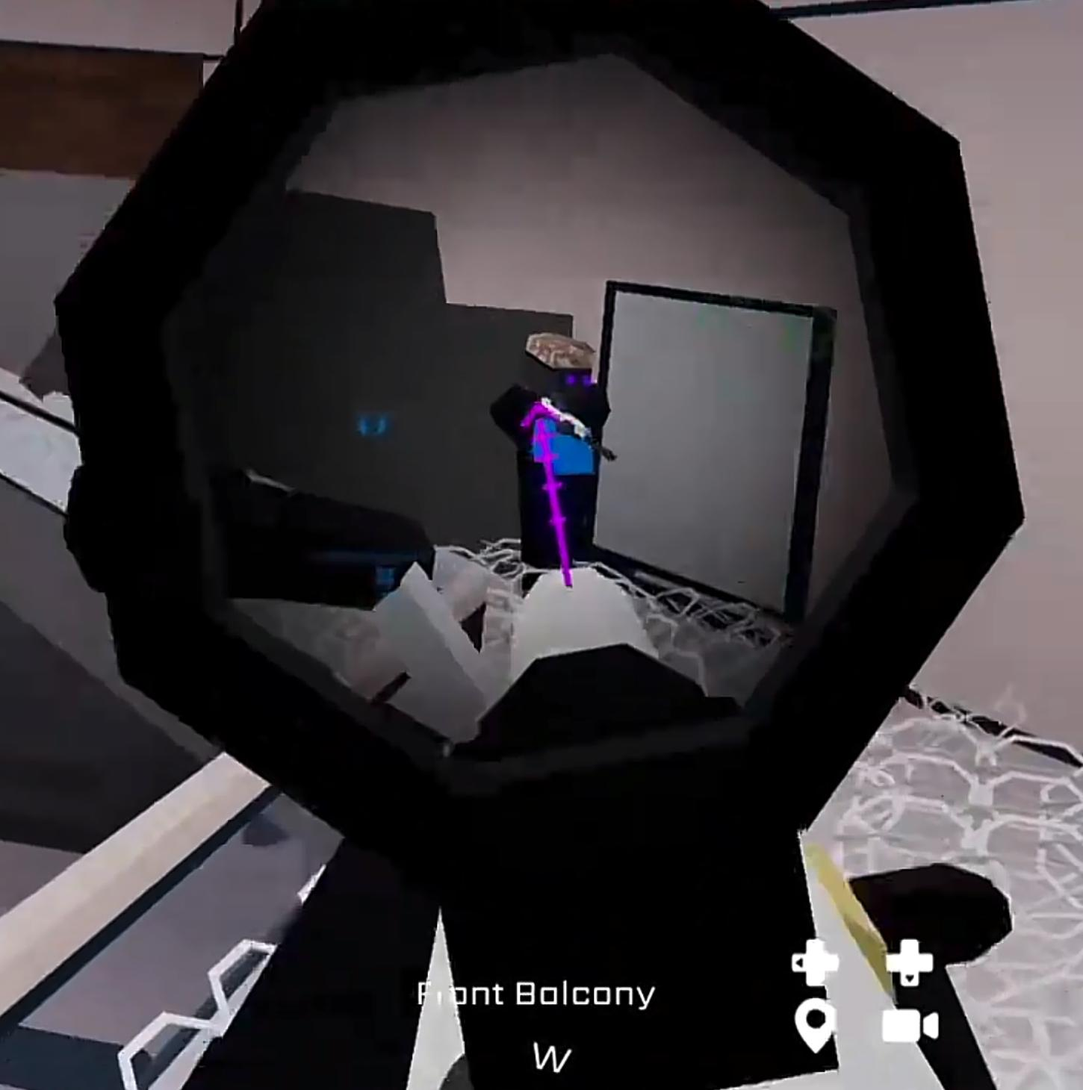enemy: (480, 322, 625, 588)
